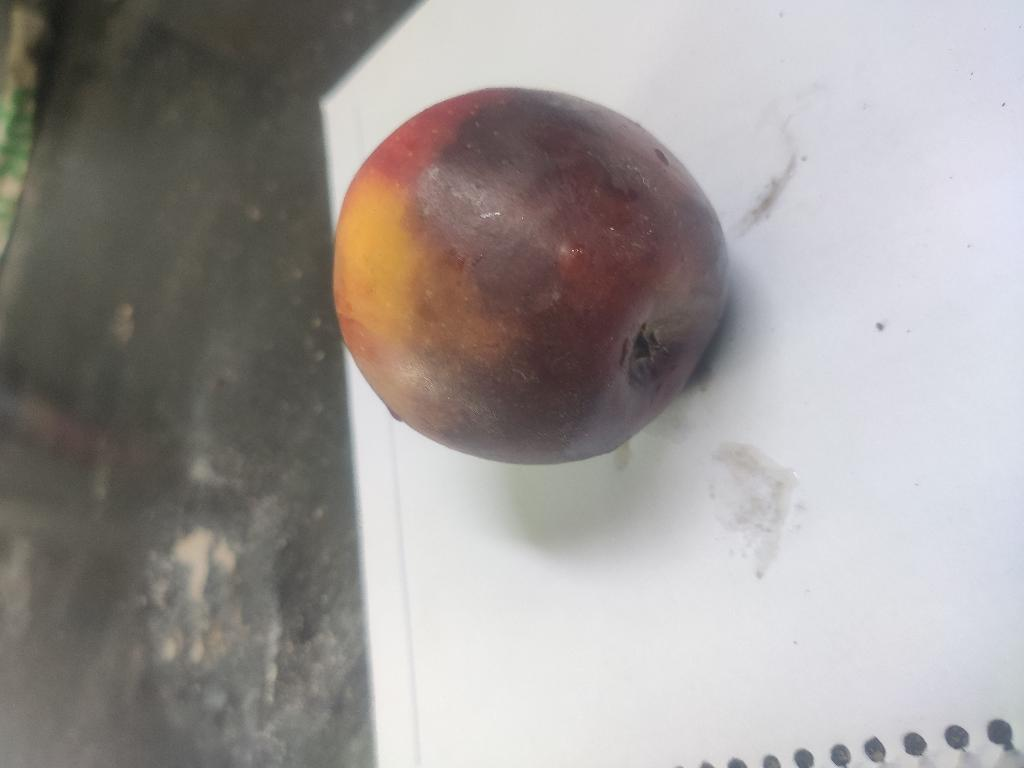apple: (335, 88, 726, 463)
rot_mold_decay: (393, 89, 726, 463)
